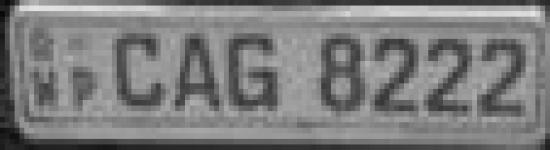2: (422, 20, 478, 119), (479, 20, 532, 122)
8: (305, 21, 368, 121), (366, 21, 424, 121)
A: (170, 26, 225, 120)
C: (102, 25, 168, 113)
G: (224, 23, 286, 121)
P: (68, 63, 102, 112)
W: (28, 65, 64, 110)
